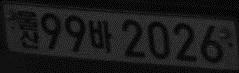0: (147, 19, 171, 60)
2: (172, 21, 198, 63), (120, 18, 146, 59)
6: (199, 24, 223, 64)
9: (39, 11, 61, 49), (64, 14, 86, 52)
바: (88, 19, 113, 52)
울산_V: (16, 9, 39, 50)
